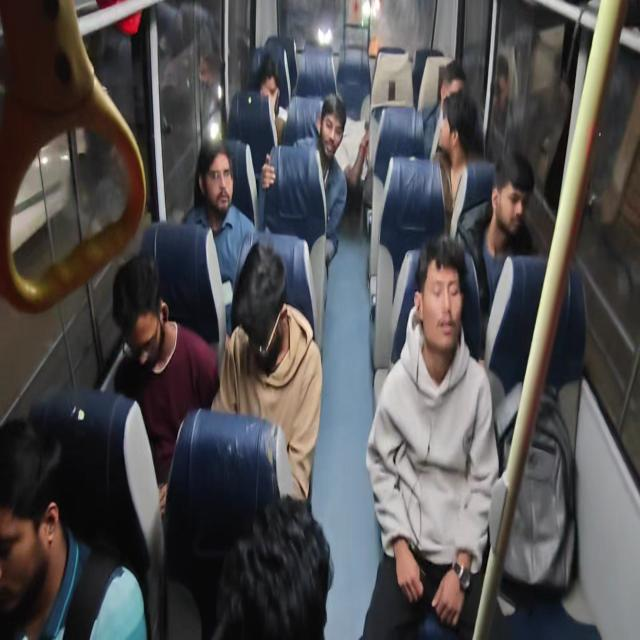person: (361, 233, 500, 638), (0, 415, 149, 638), (458, 149, 586, 395), (210, 239, 323, 502), (111, 252, 219, 517), (212, 493, 334, 639), (262, 93, 348, 264), (459, 149, 536, 315), (181, 137, 256, 295), (431, 88, 486, 239), (251, 54, 288, 189), (424, 59, 466, 158), (485, 50, 519, 160), (198, 52, 226, 140)
